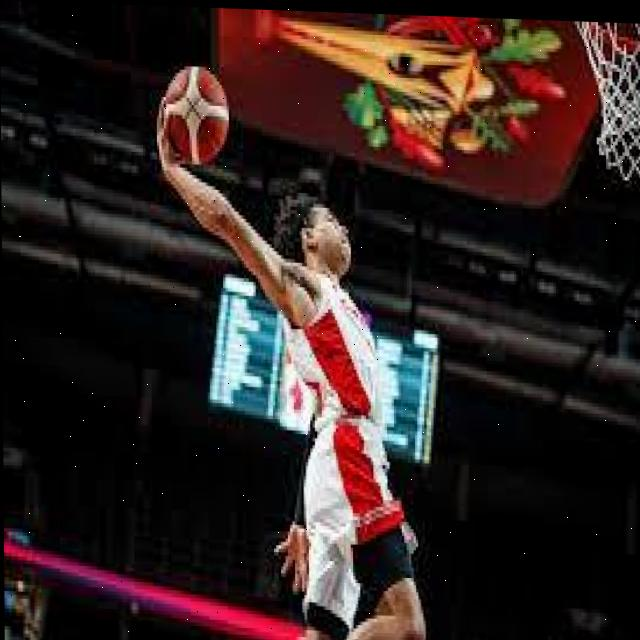basketball: (166, 66, 227, 166)
hoop: (572, 21, 640, 185)
